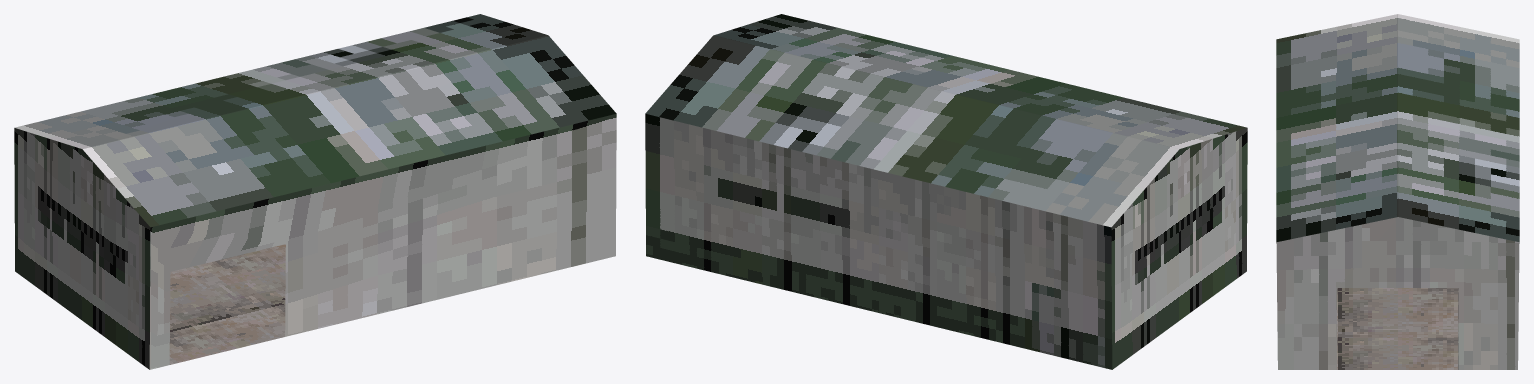
File: sw_shed06_lod.obj
3 views of the same model, side by side, from view 1: azimuth 30°, elevation 25°; view 2: azimuth 150°, elevation 25°; view 3: azimuth 270°, elevation 25° (orthographic). The views are drawn at different scales.
Parts seen in each view (by area): view 1: sw_SHED06_LOD; view 2: sw_SHED06_LOD; view 3: sw_SHED06_LOD.
Boxes of the visible parts, x1,y1,x2,y2 form: sw_SHED06_LOD: [14, 14, 616, 369]; sw_SHED06_LOD: [645, 14, 1247, 369]; sw_SHED06_LOD: [1276, 14, 1519, 369].
Bounding box in the file's own units: 16 × 5.63 × 8.1.
Materials: 2 (2 with a texture image).
